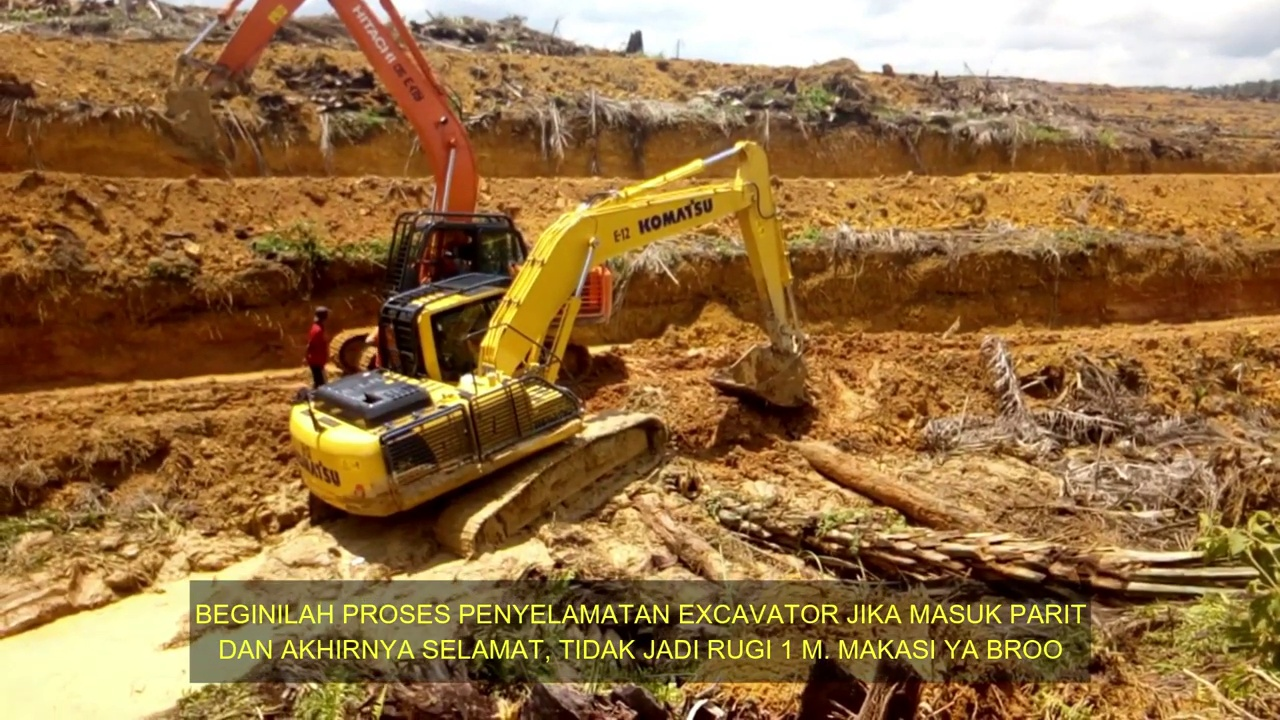excavator: (288, 139, 807, 556), (163, 1, 613, 386)
person: (302, 305, 336, 398)
